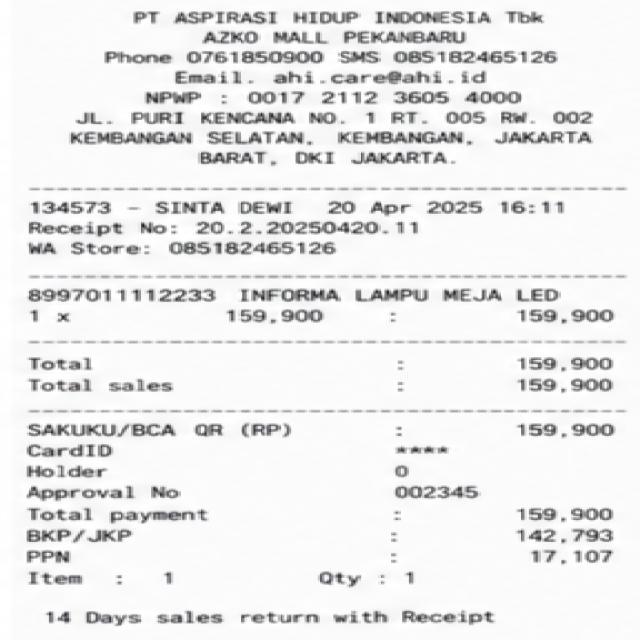date: (317, 193, 583, 220)
store: (119, 4, 578, 47)
total: (20, 504, 640, 524)
